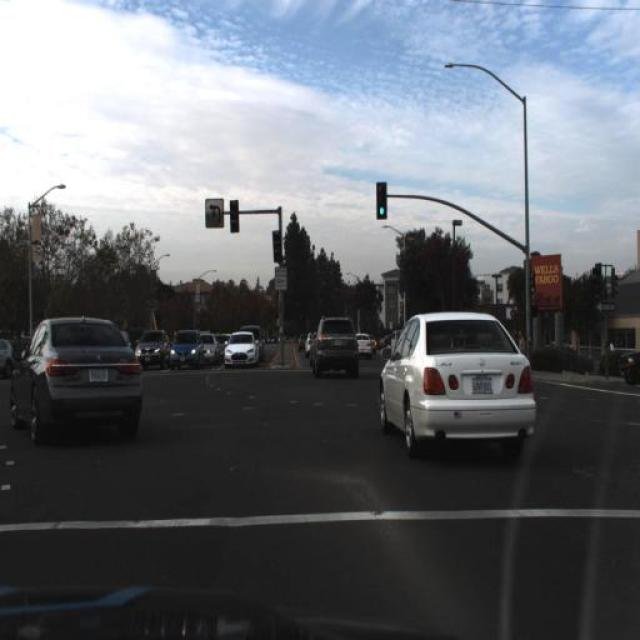car: (384, 310, 540, 460), (15, 310, 146, 448), (311, 316, 363, 382), (168, 324, 207, 376), (138, 320, 172, 375), (225, 330, 259, 370), (384, 326, 408, 366), (200, 330, 220, 371), (354, 320, 371, 366), (345, 316, 357, 360), (296, 324, 309, 356), (305, 320, 316, 356)
trafficLight: (514, 320, 530, 361)
trafficLight-GreenLeft: (370, 169, 390, 230), (524, 261, 538, 305), (272, 229, 282, 262), (555, 264, 561, 296)
trafficLight-Red: (268, 220, 286, 270), (228, 193, 244, 236)
